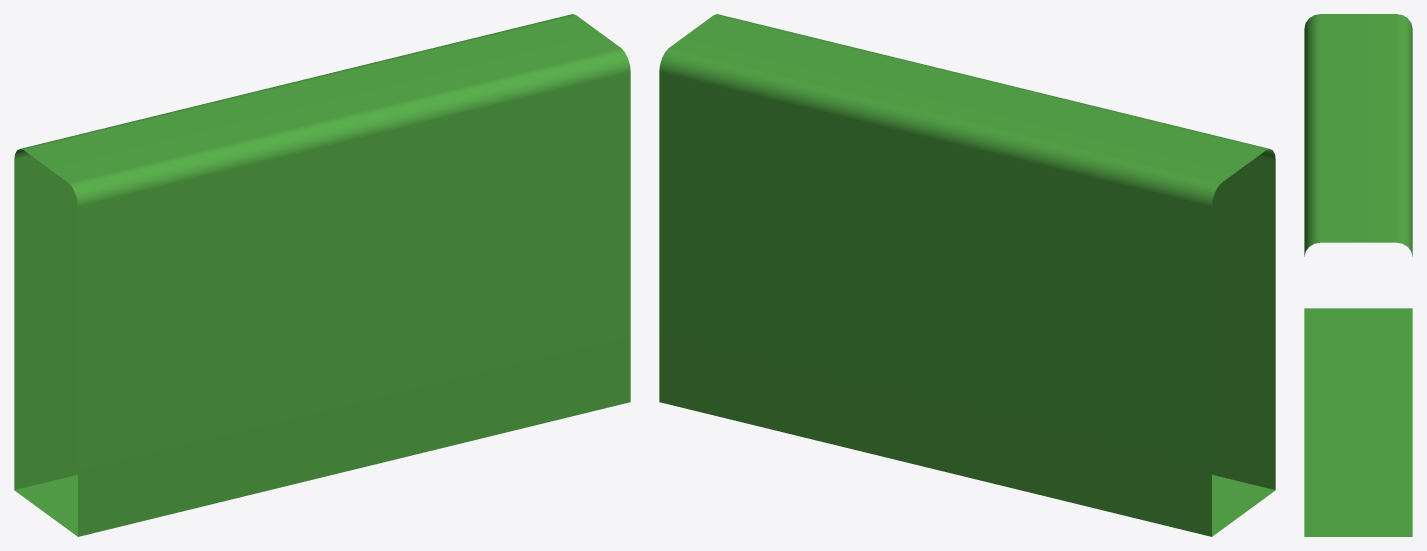
The model's file is Hedge.fbx.
3 renders of one model, left to right at view 1: azimuth 30°, elevation 25°; view 2: azimuth 150°, elevation 25°; view 3: azimuth 270°, elevation 25°, orthographic. The views are drawn at different scales.
Visible parts, largest first — view 1: pCube16; view 2: pCube16; view 3: pCube16.
Part boxes in pixels (x1=…): pCube16: x1=14, y1=14, x2=630, y2=536; pCube16: x1=659, y1=14, x2=1275, y2=536; pCube16: x1=1304, y1=14, x2=1412, y2=536.
Bounding box in the file's own units: 5 × 3 × 1.
